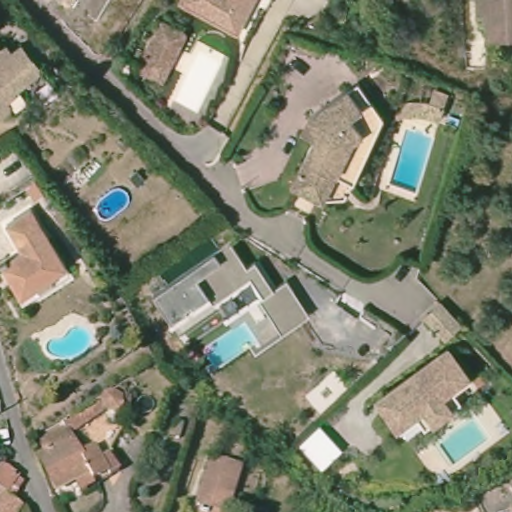pool: (387, 121, 440, 203), (195, 322, 259, 371), (434, 417, 485, 468), (37, 323, 98, 360), (88, 182, 130, 224)
